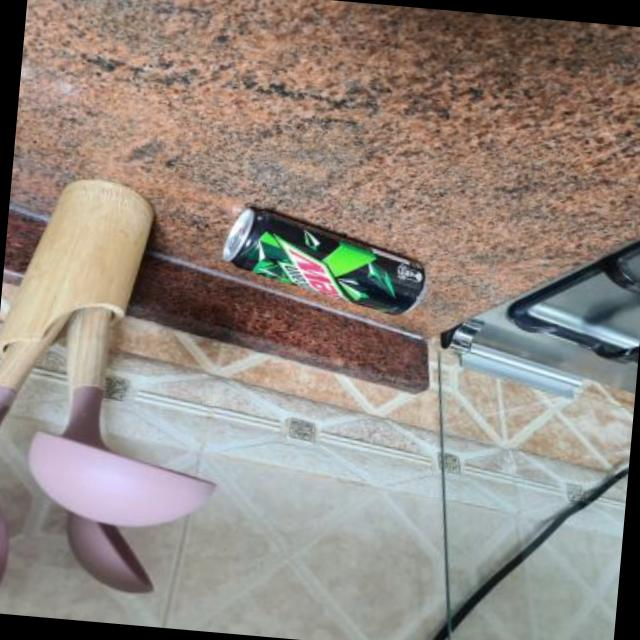metal: (227, 208, 425, 315)
